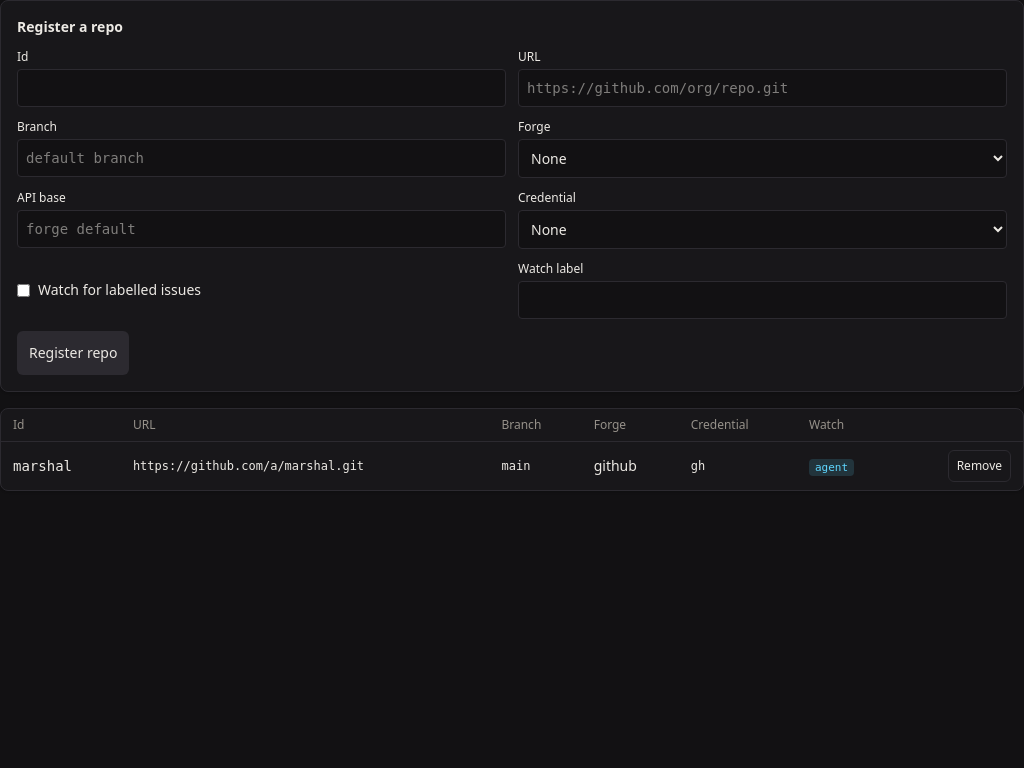
Test: Repos settings › shows the bridge's reason when registration is refused
Expected: the row with test id "repo-row" is shown, [1, 442, 1023, 490]
In the field named "Repo id": coordinates (262, 88) [17, 69, 506, 107], type "r"
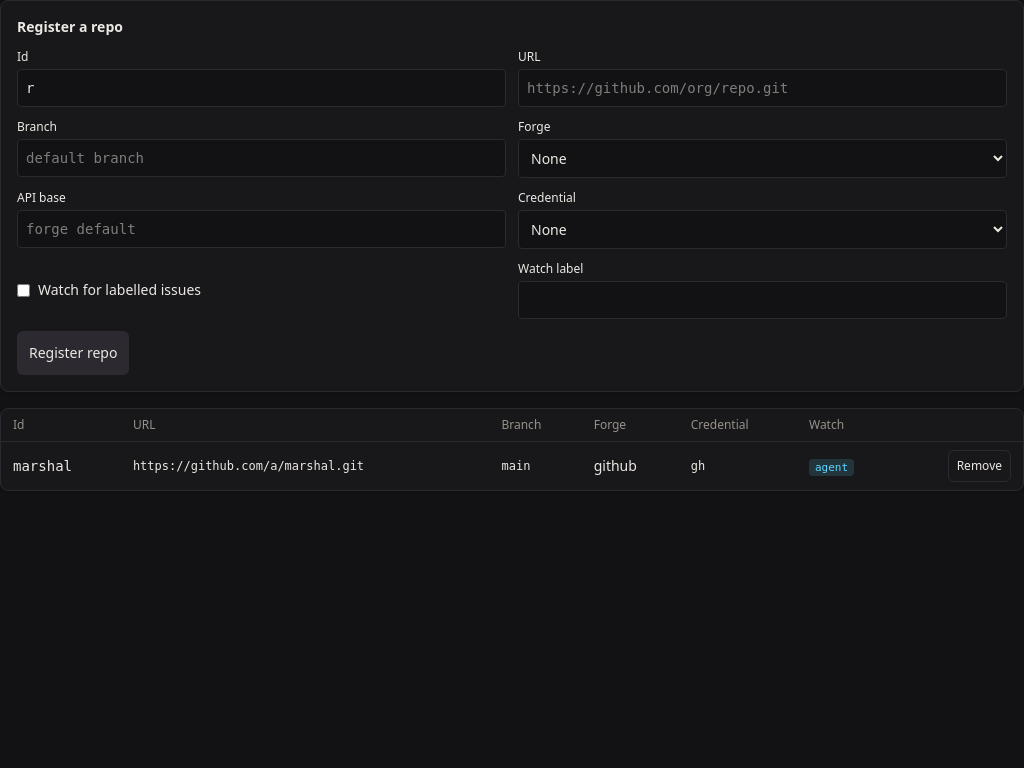
In the field named "Repo URL": coordinates (762, 88) [518, 69, 1007, 107], type "u"
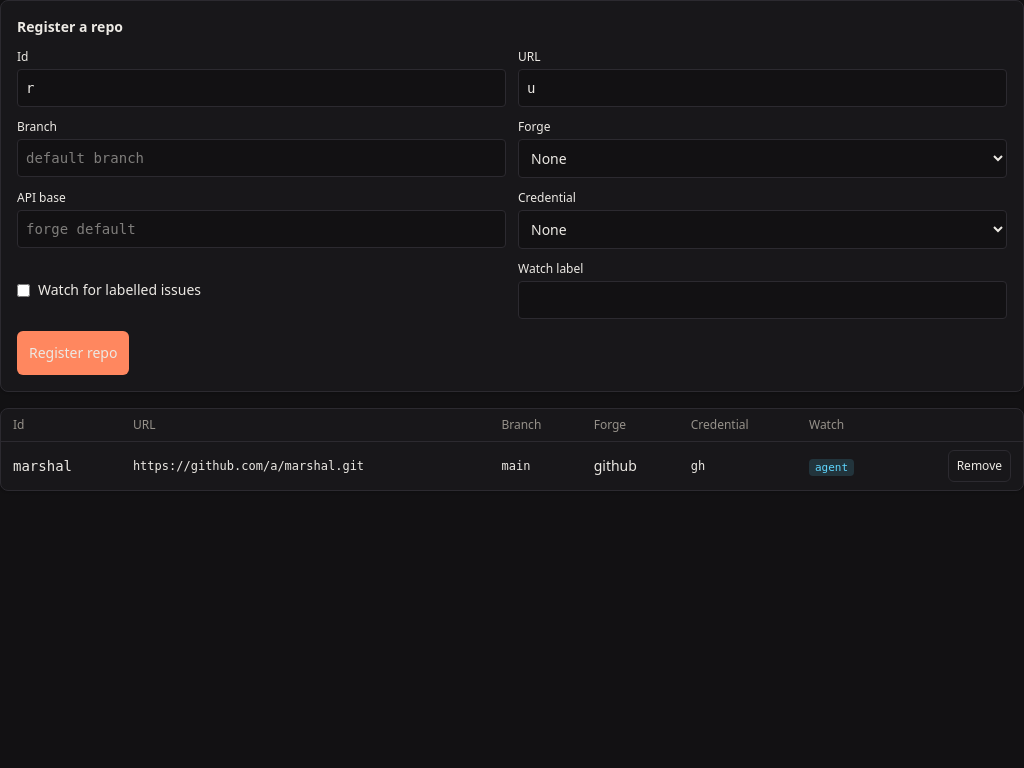
Click the checkbox named "Watch issues": coordinates (24, 290) [17, 284, 30, 296]
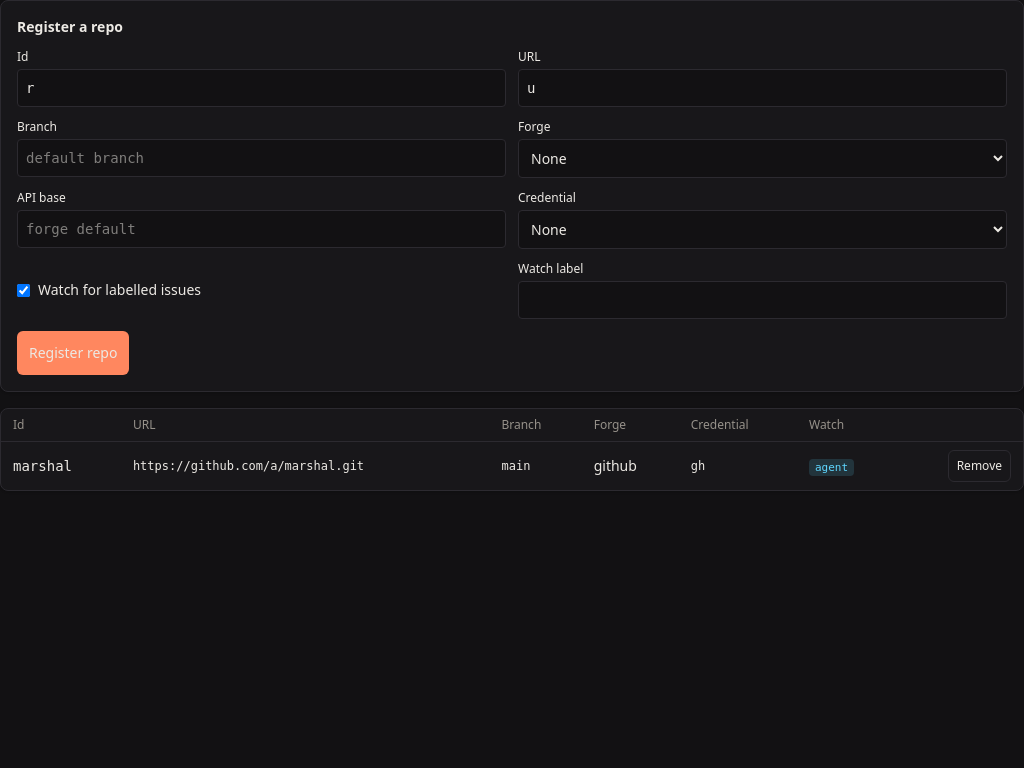
Click the button "Register repo": coordinates (73, 353) [17, 331, 129, 375]
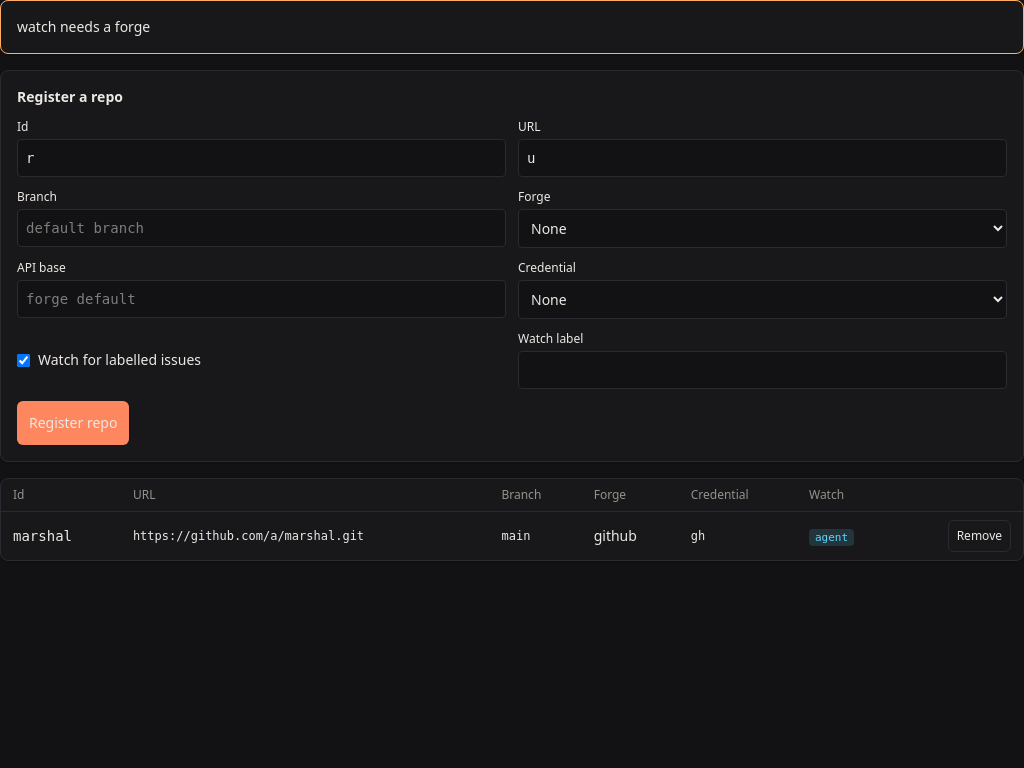
Expected: the message reads "watch needs a forge", [17, 17, 150, 36]
